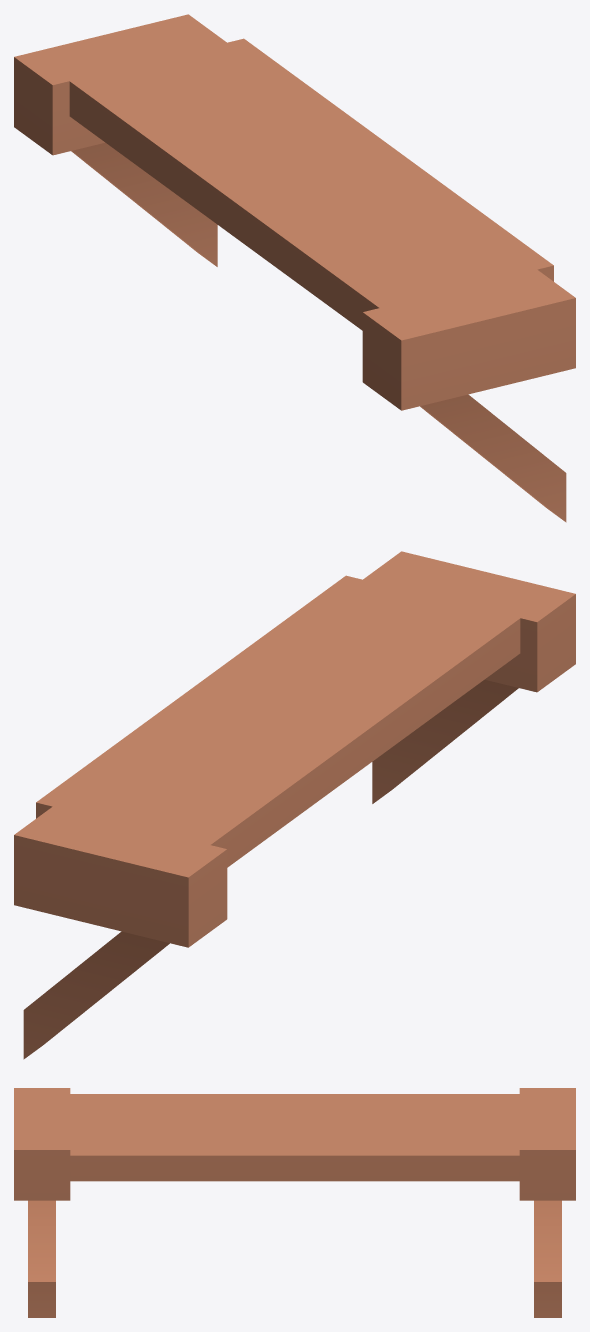
Rendered from wall-kn-overhang.glb.
3 views of the same model, one above another, from view 1: azimuth 30°, elevation 25°; view 2: azimuth 150°, elevation 25°; view 3: azimuth 270°, elevation 25° (orthographic). The views are drawn at different scales.
Parts seen in each view (by area): view 1: overhang; view 2: overhang; view 3: overhang.
Boxes of the visible parts, x1=… form: overhang: x1=14, y1=14, x2=575, y2=522; overhang: x1=14, y1=551, x2=575, y2=1059; overhang: x1=14, y1=1088, x2=575, y2=1317.
Bounding box in the file's own units: 0.855 × 0.99 × 3.
Materials: 1 (1 with a texture image).
